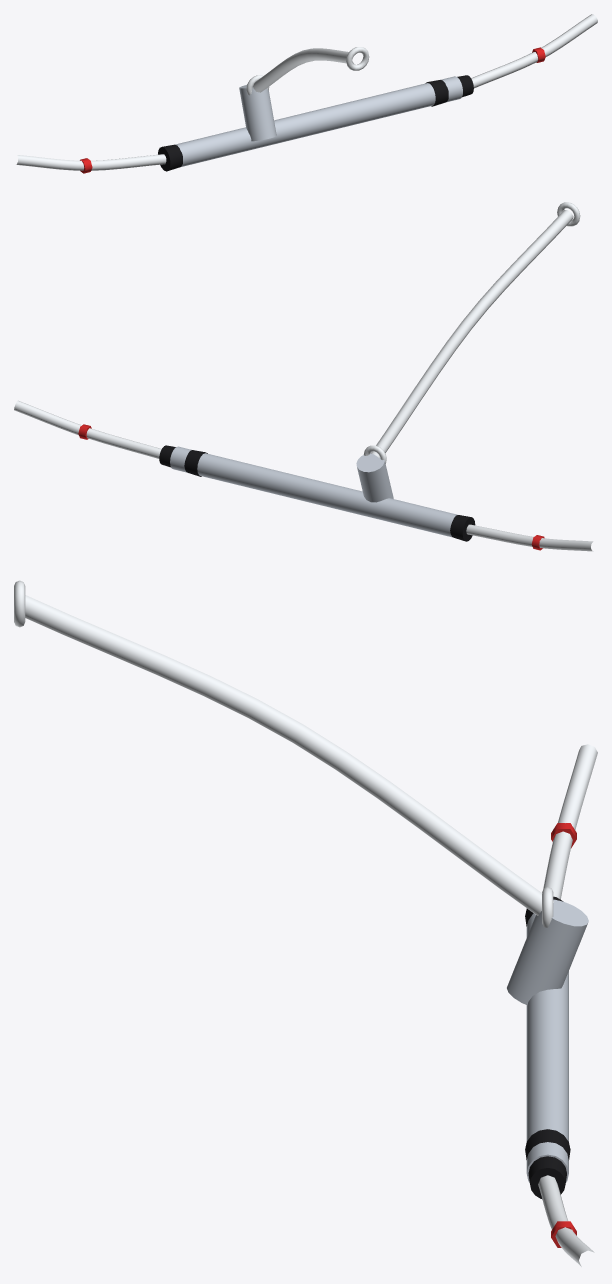
Rendered from steering_system.glb.
3 views of the same model, one above another, from view 1: azimuth 30°, elevation 25°; view 2: azimuth 150°, elevation 25°; view 3: azimuth 270°, elevation 25° (orthographic). The views are drawn at different scales.
Visible parts, largest first — view 1: Steering_Rack_Shaft_Assembly; view 2: Steering_Rack_Shaft_Assembly; view 3: Steering_Rack_Shaft_Assembly.
Part boxes in pixels (left/top/right/bottom): Steering_Rack_Shaft_Assembly: left=16, top=14, right=597, bottom=173; Steering_Rack_Shaft_Assembly: left=14, top=202, right=593, bottom=551; Steering_Rack_Shaft_Assembly: left=14, top=580, right=597, bottom=1266.
Size of the model in its own units: 1.49 by 0.5369 by 0.7188.
